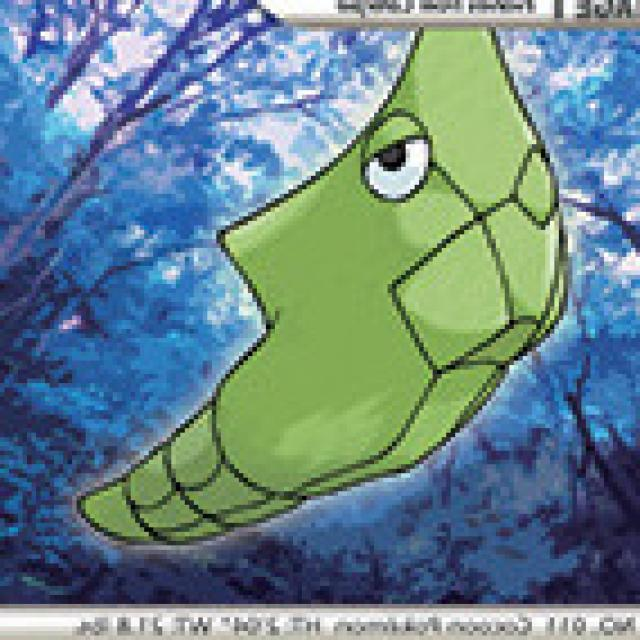Metapod: (76, 37, 570, 569)
